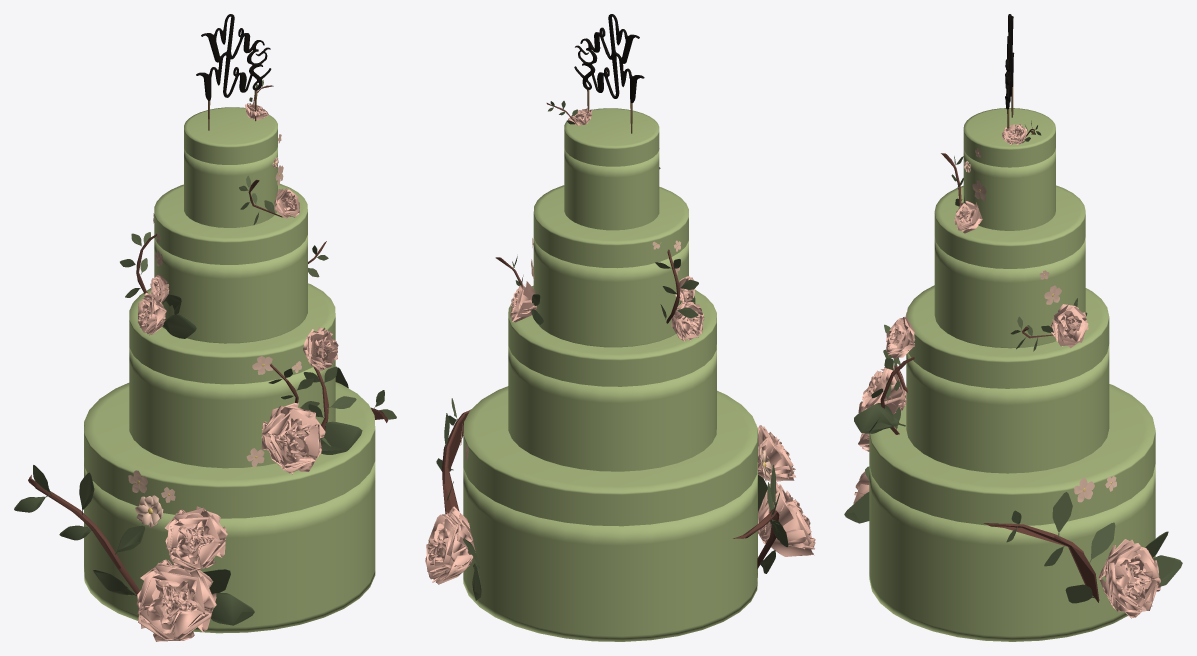
File: 4-tier-pistage-roses-mrms.glb
3 views of the same model, side by side, from view 1: azimuth 30°, elevation 25°; view 2: azimuth 150°, elevation 25°; view 3: azimuth 270°, elevation 25° (orthographic).
Visible parts, largest first — view 1: 3.001, 3, 2, 1, grid.013, Plane.024, grid.016, grid.012, mrms.004, grid.015, Plane.009, Plane.022 (+7 smaller); view 2: 3.001, 3, 2, 1, grid.020, mrms.004, grid.013, Plane.008, Plane.024, grid.012, grid.017, Plane.023 (+1 smaller); view 3: 3.001, 3, 2, 1, grid.020, Plane.008, grid.016, grid.019, Plane.009, grid.015, mrms.004, grid.021 (+3 smaller).
Part boxes in pixels (box(x1,y1,x2,y2)): 3.001: box(84, 382, 375, 633); 3: box(129, 283, 335, 468); 2: box(154, 184, 307, 343); 1: box(184, 107, 277, 227); grid.013: box(136, 559, 216, 641); Plane.024: box(14, 465, 144, 595); grid.016: box(261, 403, 325, 474); grid.012: box(165, 506, 227, 572); mrms.004: box(196, 14, 271, 130); grid.015: box(303, 327, 338, 371); Plane.009: box(320, 421, 362, 454); Plane.022: box(210, 593, 254, 625); 3.001: box(463, 386, 757, 641); 3: box(508, 285, 716, 471); 2: box(533, 185, 688, 347); 1: box(564, 108, 659, 230); grid.020: box(425, 506, 475, 584); mrms.004: box(574, 14, 644, 133); grid.013: box(758, 482, 815, 556); Plane.008: box(436, 398, 470, 514); Plane.024: box(733, 464, 788, 573); grid.012: box(756, 424, 795, 481); grid.017: box(671, 302, 704, 341); Plane.023: box(655, 249, 698, 323); 3.001: box(869, 384, 1155, 641); 3: box(906, 285, 1109, 473); 2: box(934, 185, 1085, 348); 1: box(963, 108, 1055, 230); grid.020: box(1098, 539, 1160, 618); Plane.008: box(983, 492, 1115, 603); grid.016: box(858, 365, 906, 414); grid.019: box(1050, 304, 1088, 348); Plane.009: box(854, 403, 905, 433); grid.015: box(886, 317, 915, 358); mrms.004: box(1005, 14, 1014, 128); grid.021: box(954, 201, 982, 233).
Bounding box in the file's own units: 6.25 × 9.28 × 5.05.
